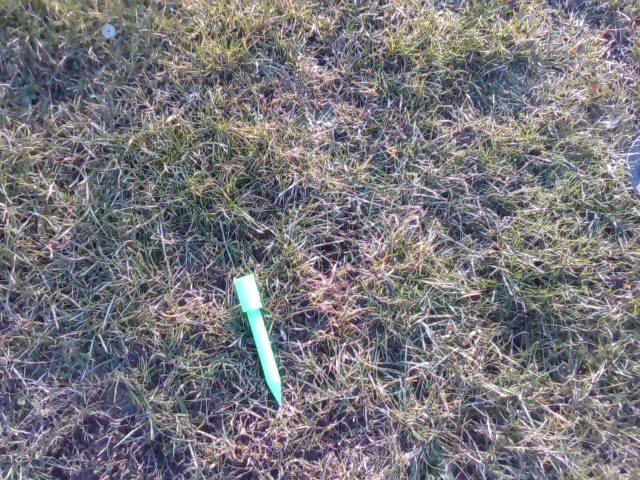Probe: (228, 269, 285, 412)
